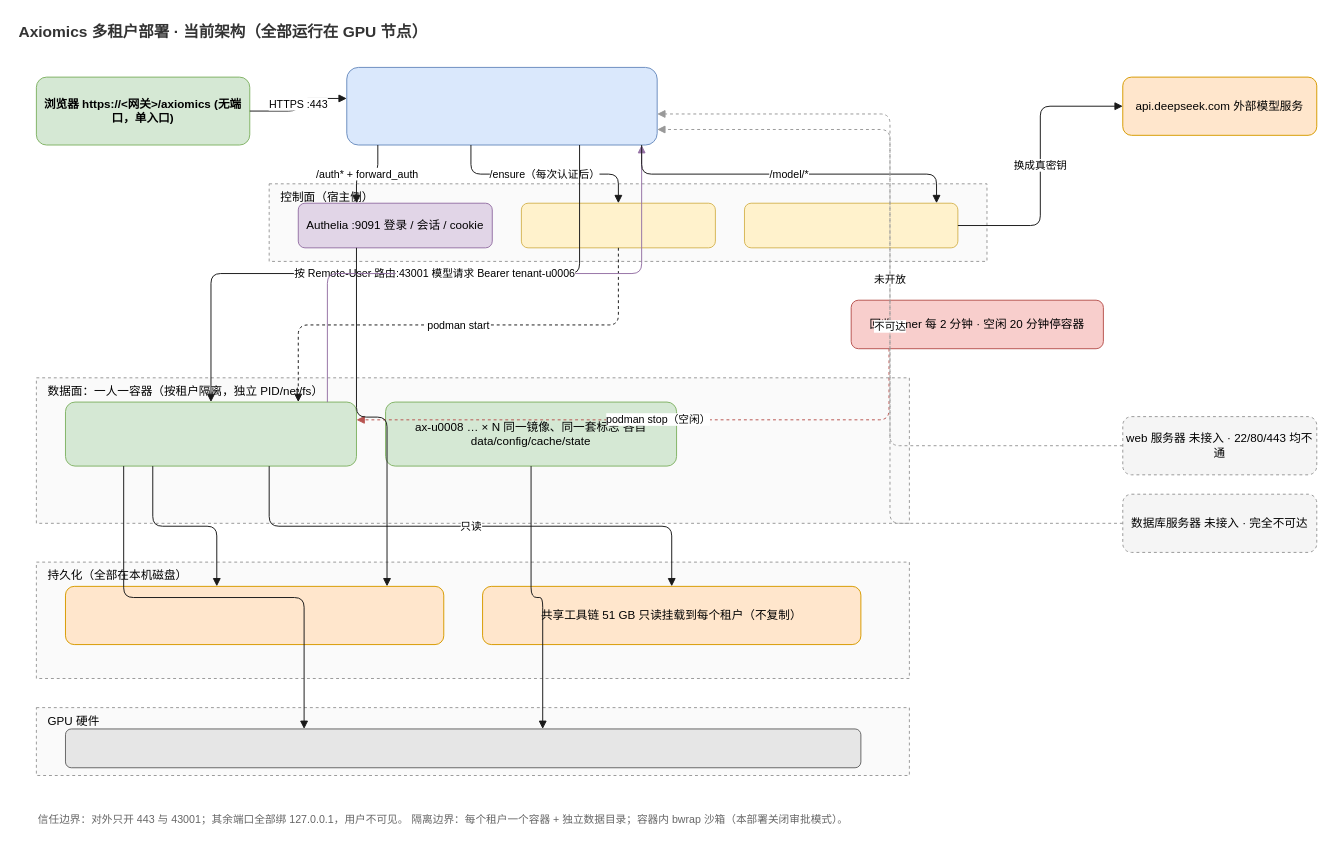
Some shapes in this 1334 by 859 pixel diagram are drawn without their labels. The shapes that lost their labels are listed below. From the top down, each one's centre as x and y in pixels, then its label:
the point at 501,105: Caddy 网关 :443 / :43001 容器 ax-gw · host 网络 TLS（内部 CA）· 单入口 /axiomics
the point at 617,225: 激活器 :9300 按需拉起租户
the point at 851,225: 模型代理 :43002 识别租户 / 换真密钥 / 记账
the point at 210,433: 租户容器 ax-u0006 relay :8080 → axiomics :4096 GPU 0 · 发布在 127.0.0.1:42101
the point at 254,615: AX_ROOT /srv/axiomics 租户数据 · tenants.map · 审计 / 用量账本 · 密钥(0600)
the point at 463,748: 4 × RTX 5090 32 GB —— 按租户 --device 分配（--gpu N）
